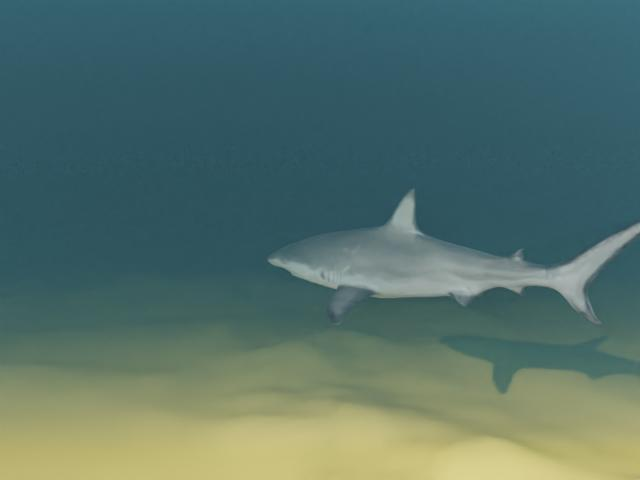Carribean Shark.001: (267, 188, 640, 325)
